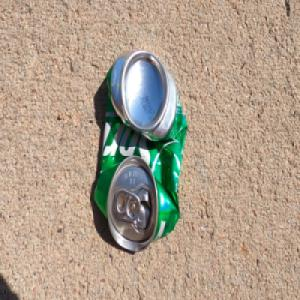SodaCan: (92, 47, 188, 255)
